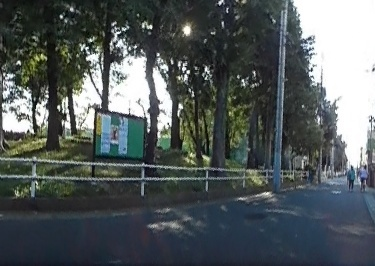person: (346, 164, 356, 188), (359, 162, 366, 189)
